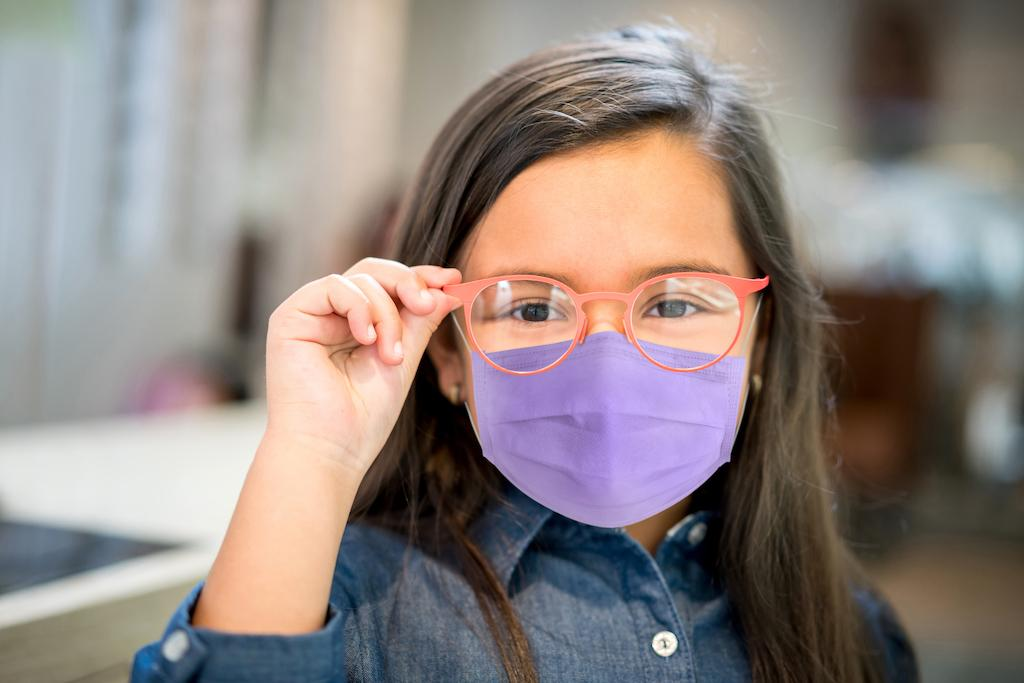mask: (462, 328, 756, 536)
sunglasses: (442, 258, 764, 374)
